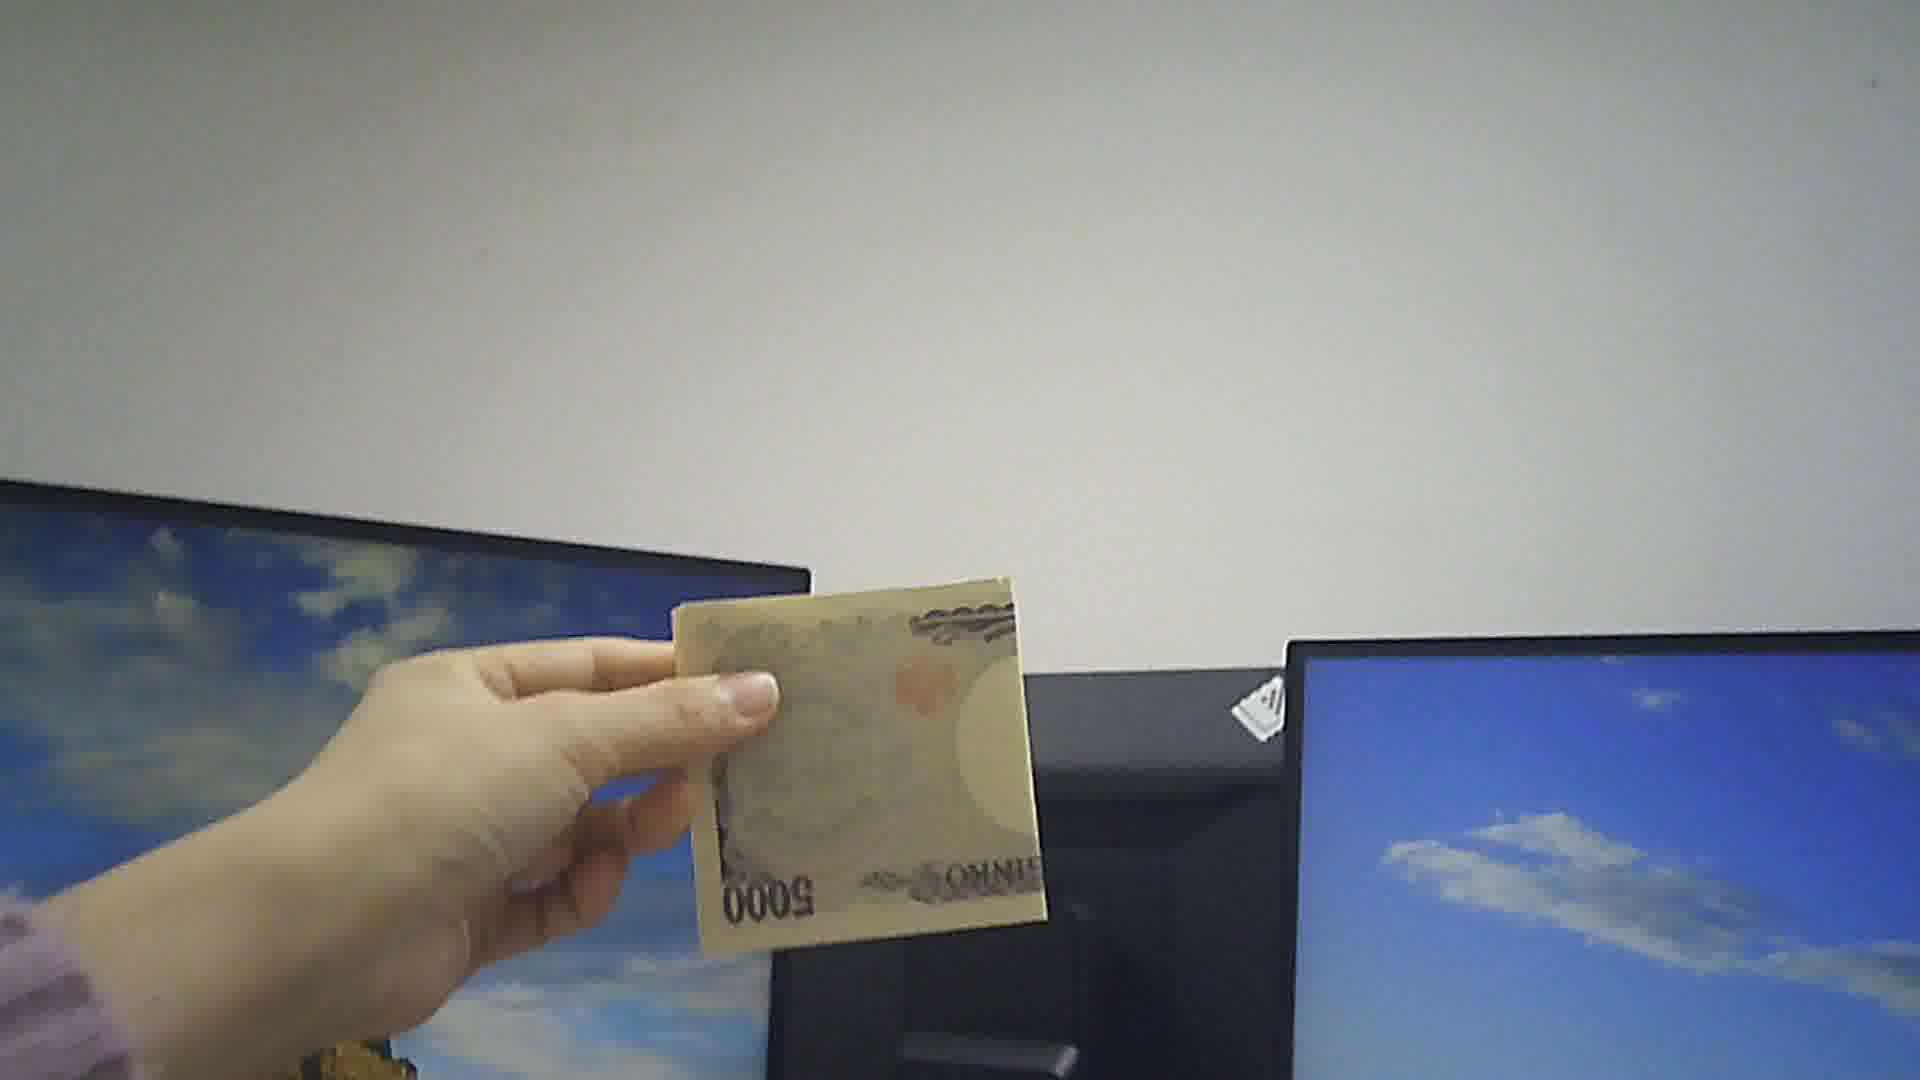5,000 Yen: (659, 568, 1060, 982)
